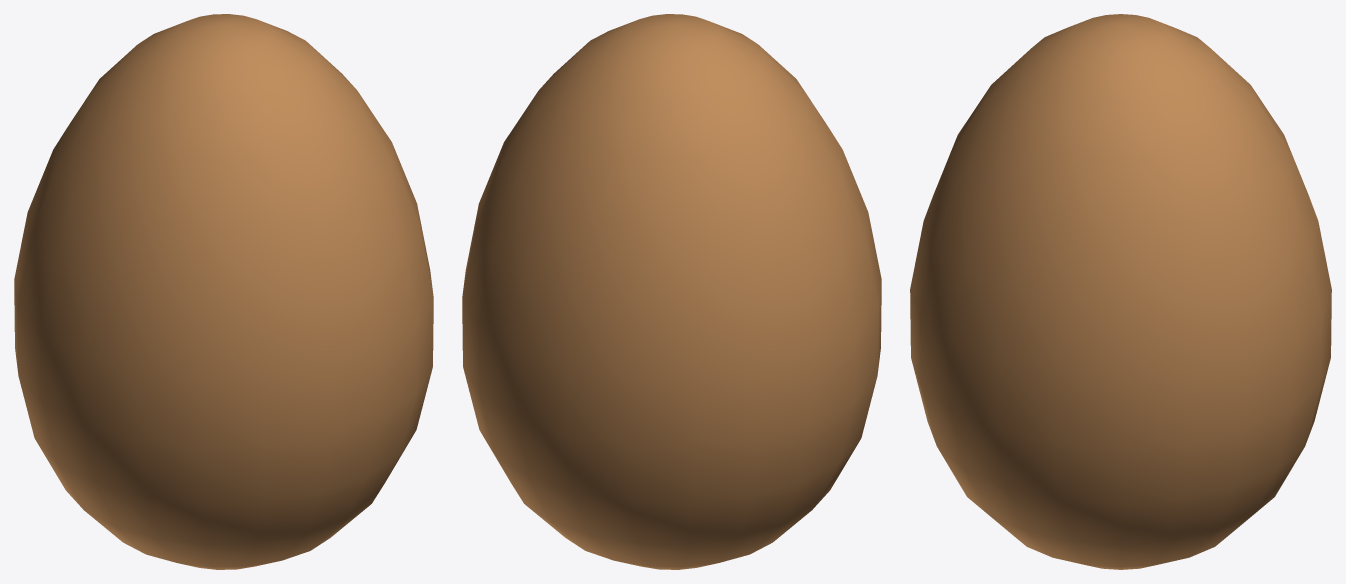
The model's file is egg_brown.glb.
3 views of the same model, side by side, from view 1: azimuth 30°, elevation 25°; view 2: azimuth 150°, elevation 25°; view 3: azimuth 270°, elevation 25° (orthographic).
Parts seen in each view (by area): view 1: egg_brown; view 2: egg_brown; view 3: egg_brown.
Part boxes in pixels (bbox=[...]): egg_brown: bbox=[14, 14, 433, 569]; egg_brown: bbox=[462, 14, 881, 569]; egg_brown: bbox=[910, 14, 1331, 569].
Bounding box in the file's own units: 0.042 × 0.058 × 0.042.
